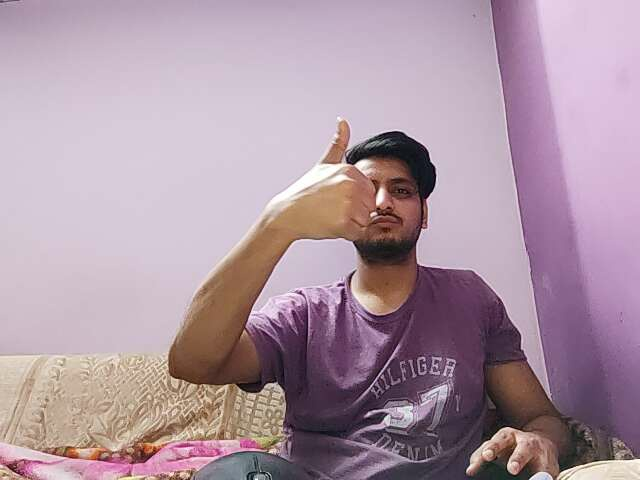ThumbsUp: (263, 112, 376, 250)
